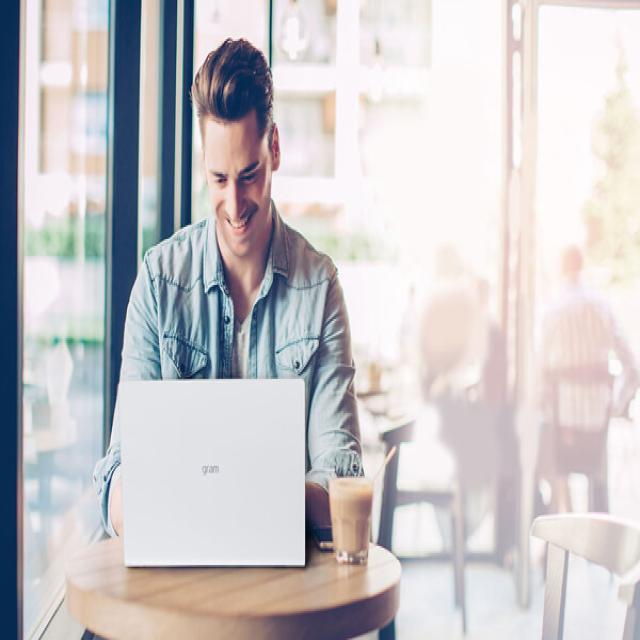notebook-person: (90, 22, 382, 591)
